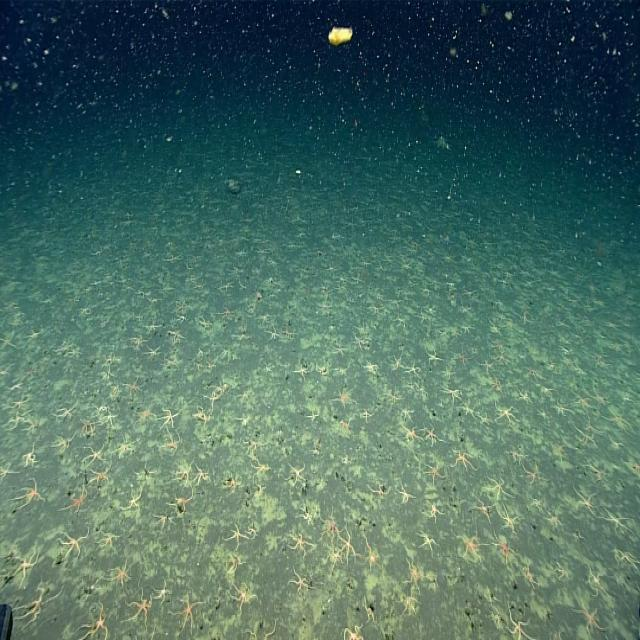brittle-stars: (571, 596, 604, 635), (231, 583, 259, 623), (57, 530, 88, 564), (23, 592, 53, 626), (126, 591, 152, 628), (176, 596, 202, 633), (15, 480, 45, 512), (287, 564, 315, 598), (12, 552, 39, 587), (83, 604, 109, 640), (506, 603, 531, 640), (224, 520, 250, 554), (572, 482, 598, 516), (458, 530, 484, 564), (359, 536, 383, 572), (484, 472, 512, 502), (111, 556, 132, 592), (67, 484, 87, 520), (150, 510, 176, 537), (451, 447, 477, 474), (288, 530, 312, 559), (282, 462, 308, 488), (418, 527, 438, 560), (339, 528, 358, 562), (401, 556, 421, 588), (492, 535, 514, 564), (492, 401, 517, 426), (89, 464, 112, 490), (151, 580, 171, 609), (520, 461, 543, 486), (124, 487, 142, 518), (95, 529, 118, 553), (439, 381, 463, 404), (114, 433, 136, 458), (497, 506, 518, 532), (250, 457, 273, 480), (223, 554, 243, 580), (191, 463, 211, 489), (396, 481, 415, 508), (424, 459, 444, 484), (161, 432, 180, 458), (159, 407, 177, 434), (343, 619, 365, 640), (292, 358, 310, 383), (332, 388, 354, 408), (79, 414, 96, 439), (134, 402, 155, 422), (22, 445, 38, 471), (423, 424, 439, 449), (52, 435, 73, 454), (81, 446, 103, 464), (122, 376, 140, 398), (360, 403, 377, 426), (575, 389, 592, 412), (401, 425, 420, 445), (54, 403, 74, 422), (176, 464, 193, 486), (424, 502, 442, 522), (224, 475, 241, 496), (0, 462, 17, 483), (478, 359, 497, 376), (144, 317, 161, 336), (246, 524, 260, 547), (219, 304, 235, 324), (404, 360, 421, 378), (388, 353, 404, 372), (362, 357, 378, 376), (330, 339, 346, 358), (304, 410, 322, 426), (146, 345, 162, 362), (267, 324, 280, 344), (516, 390, 532, 406), (11, 396, 26, 412), (109, 377, 120, 398)
